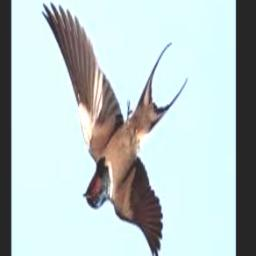Swallow: (41, 4, 187, 256)
